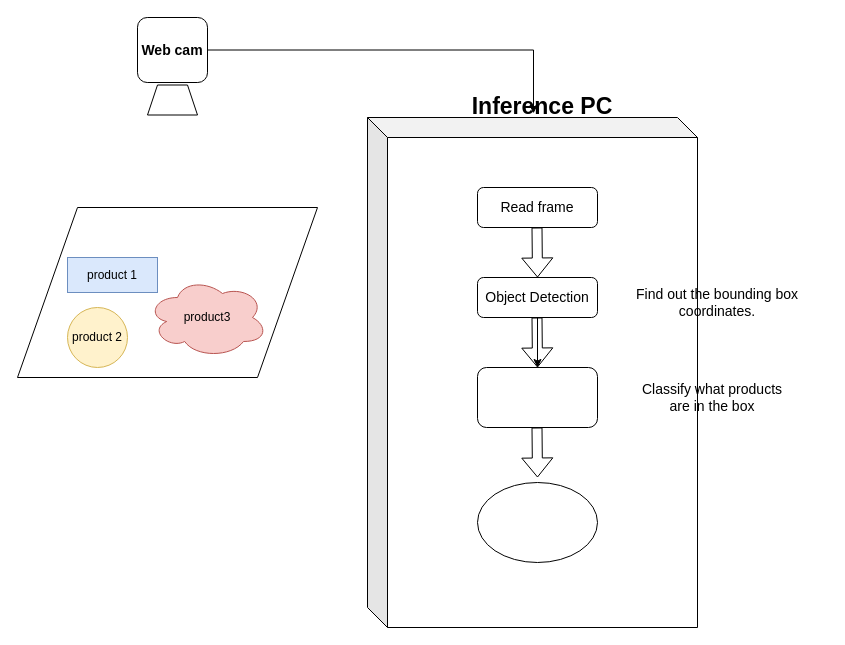
This 845x645 diagram has some shape labels left out. Each missing label, with the box of its shape:
Bboxes Image Classification: (476, 366, 598, 428)
Check out table: (16, 206, 318, 378)
Get a list of products you want to buy.: (476, 482, 598, 562)
